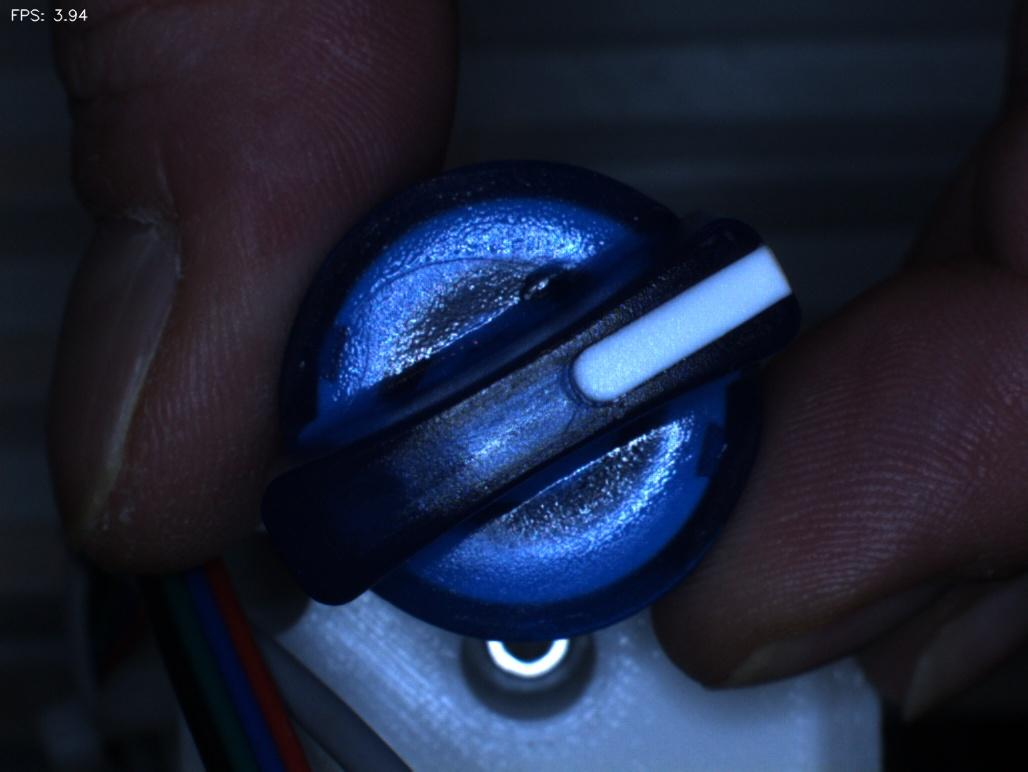Choc: (503, 238, 603, 328)
